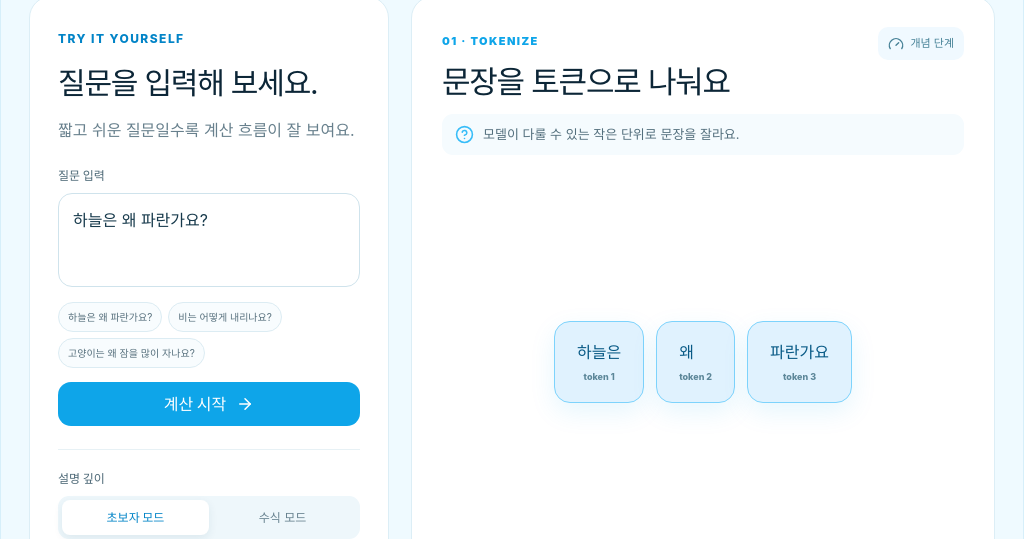
Scenario: Transformer Lab › runs a question through the visual learning stages
This screenshot has width=1024, height=539.
(page scrolled)
Replace the text in the text box labelled "질문 입력" with "비는 어떻게 내리나요?" at x=209, y=240, box [58,193,360,287]
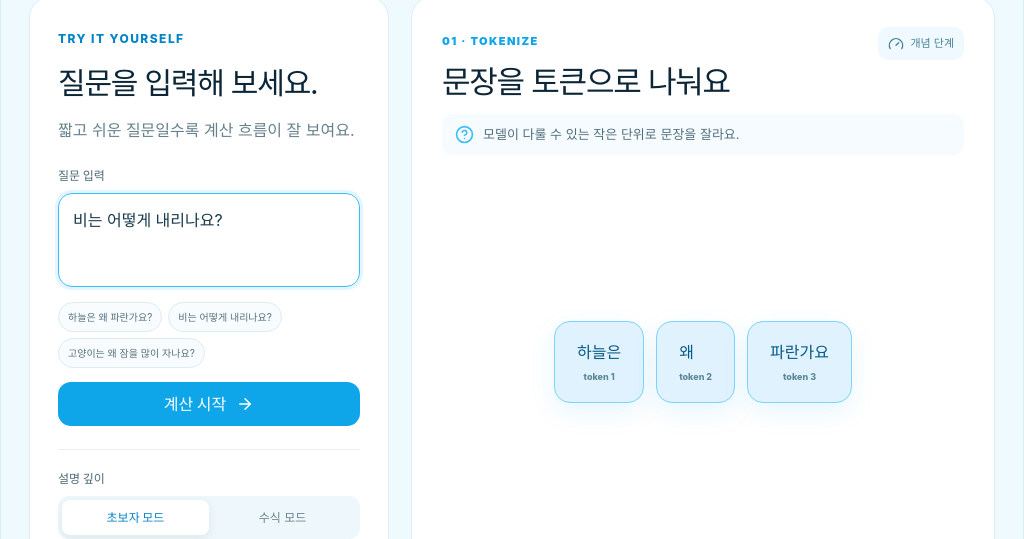
Click the button "계산 시작" at x=209, y=404, box [58,382,360,426]
(page scrolled)
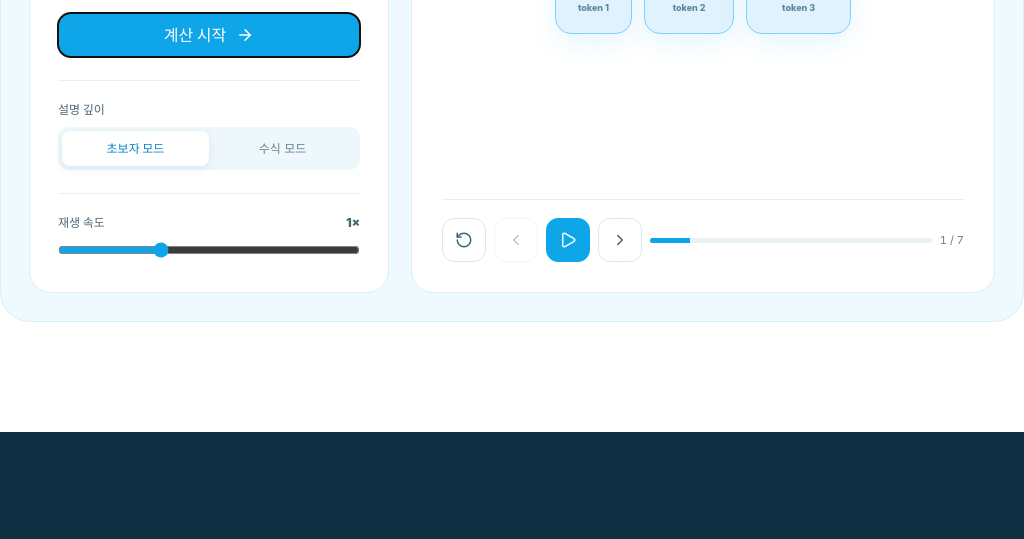
Click the button named "다음 단계" at x=620, y=240, box [598,218,642,262]
(page scrolled)
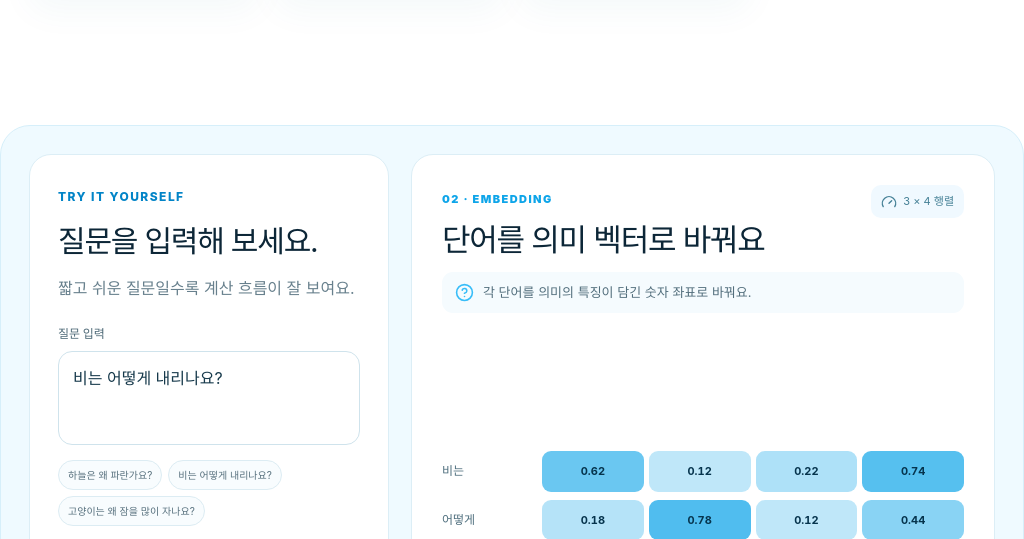
Now the heading "단어를 의미 벡터로 바꿔요" is shown, box [442,217,764,264]
